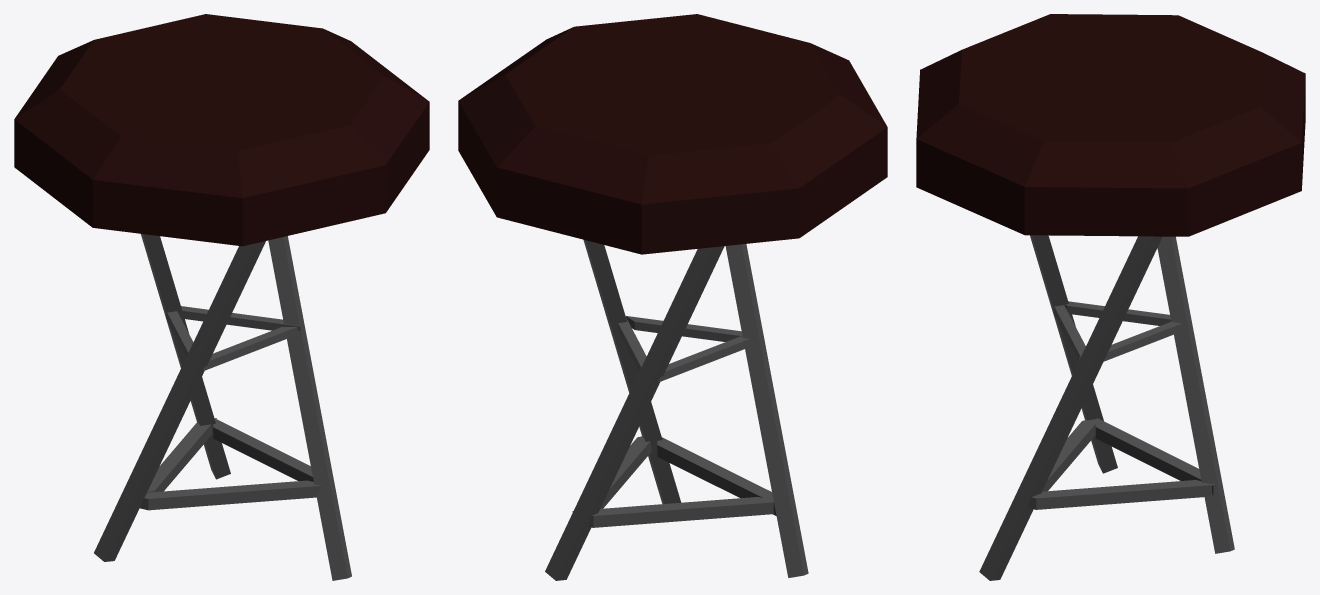
File: chair1.obj
3 renders of one model, left to right at view 1: azimuth 30°, elevation 25°; view 2: azimuth 150°, elevation 25°; view 3: azimuth 270°, elevation 25°, orthographic. The views are drawn at different scales.
Visible parts, largest first — view 1: Cube.008; view 2: Cube.008; view 3: Cube.008.
Part boxes in pixels (<box>): Cube.008: <box>14,14,429,580</box>; Cube.008: <box>458,14,887,580</box>; Cube.008: <box>916,14,1305,580</box>.
Size of the model in its own units: 1.92 by 2.57 by 1.92.
